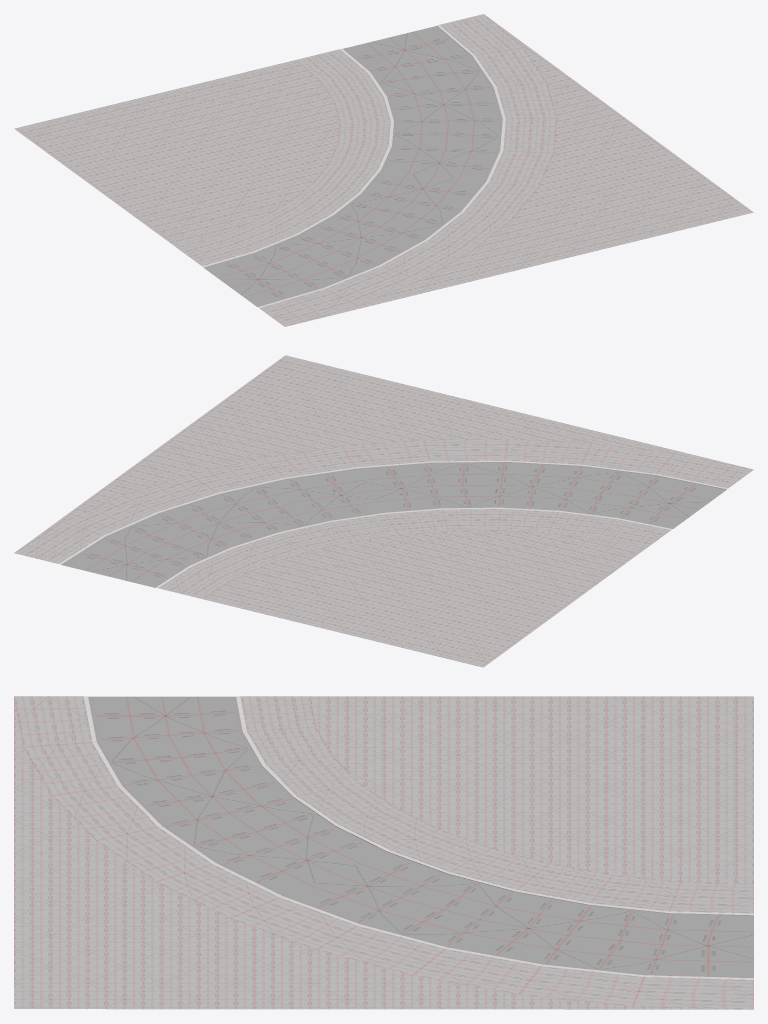
The model's file is M_road_2x_round.FBX.
The picture shows the model from 3 angles, top to bottom: view 1: azimuth 30°, elevation 25°; view 2: azimuth 150°, elevation 25°; view 3: azimuth 270°, elevation 25°; orthographic projection. The views are drawn at different scales.
Visible parts, largest first — view 1: road_2x_round; view 2: road_2x_round; view 3: road_2x_round.
Boxes of the visible parts, x1,y1,x2,y2 form: road_2x_round: (14,14,753,326); road_2x_round: (14,355,753,667); road_2x_round: (14,696,753,1009).
Bounding box in the file's own units: 200 × 200 × 0.1384.
